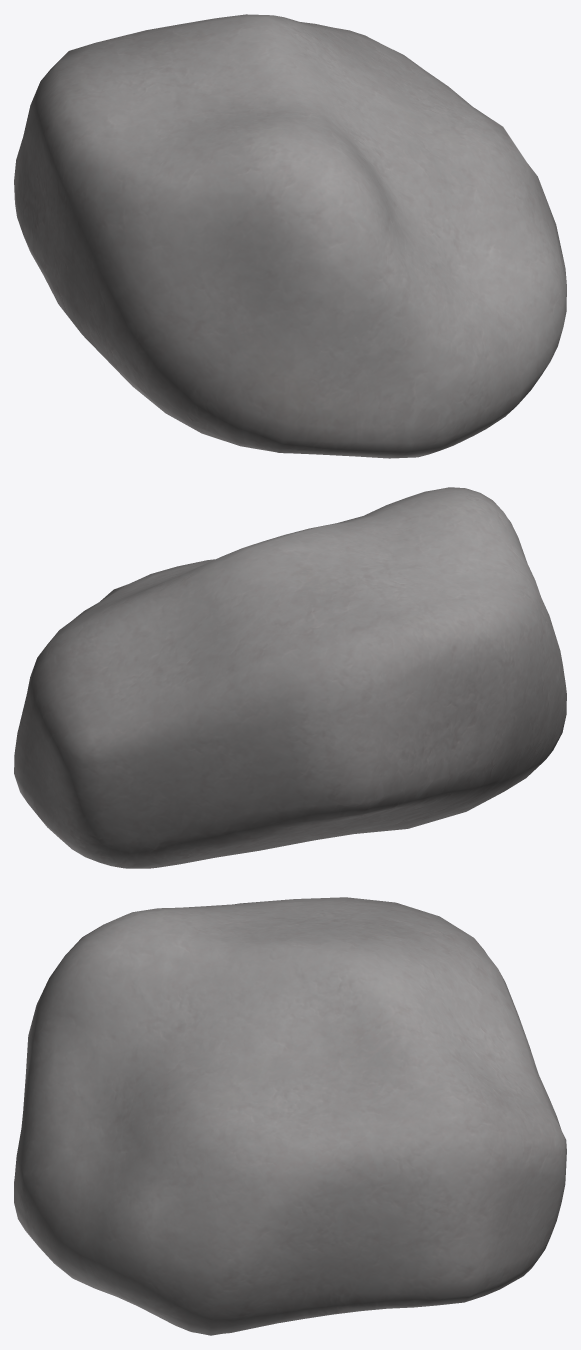
Rendered from rockLight.fbx.
3 views of the same model, one above another, from view 1: azimuth 30°, elevation 25°; view 2: azimuth 150°, elevation 25°; view 3: azimuth 270°, elevation 25° (orthographic). The views are drawn at different scales.
Parts seen in each view (by area): view 1: rock01; view 2: rock01; view 3: rock01.
Part boxes in pixels (x1=…): rock01: x1=14, y1=14, x2=566, y2=458; rock01: x1=14, y1=487, x2=566, y2=868; rock01: x1=14, y1=897, x2=566, y2=1335.
Bounding box in the file's own units: 54.82 × 38.11 × 61.23.
